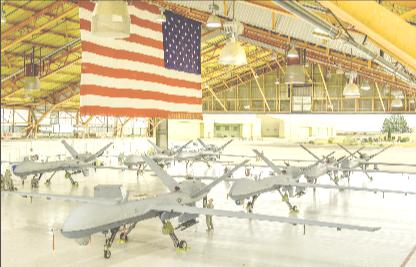MQ9: (1, 154, 381, 258), (149, 147, 415, 214), (221, 144, 415, 194), (2, 140, 152, 187), (271, 143, 415, 183), (100, 139, 234, 175), (144, 137, 260, 167)
